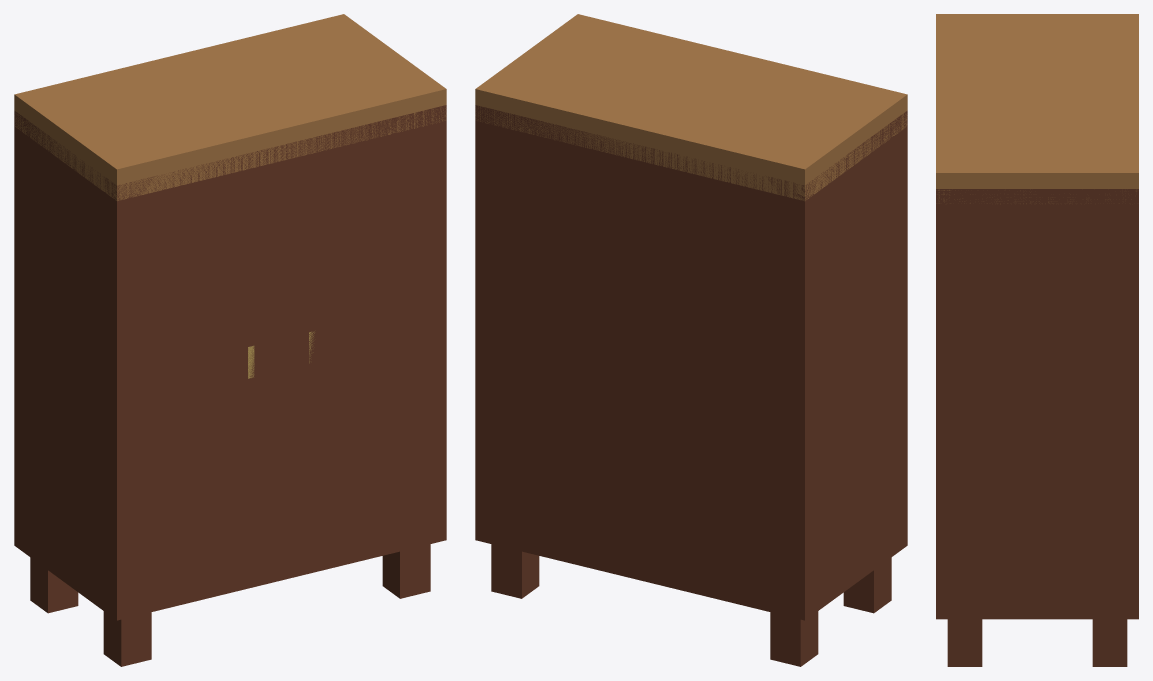
Rendered from cabinet.glb.
The picture shows the model from 3 angles, left to right: view 1: azimuth 30°, elevation 25°; view 2: azimuth 150°, elevation 25°; view 3: azimuth 270°, elevation 25°; orthographic projection.
Parts seen in each view (by area): view 1: 双门陈列柜; view 2: 双门陈列柜; view 3: 双门陈列柜.
Part boxes in pixels (bbox=[...]): 双门陈列柜: bbox=[14, 14, 446, 666]; 双门陈列柜: bbox=[475, 14, 907, 666]; 双门陈列柜: bbox=[936, 14, 1138, 666].
Size of the model in its own units: 1.3 by 1.9 by 0.7.
